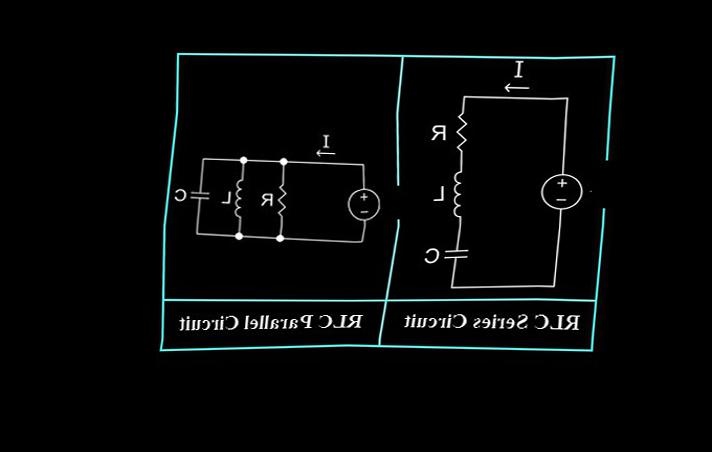Battery: (522, 151, 592, 233), (331, 163, 398, 229)
